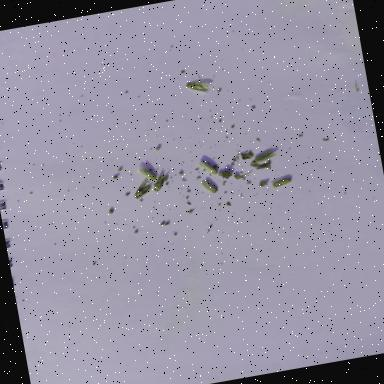pbw: (184, 74, 213, 98), (131, 180, 155, 202), (150, 171, 172, 193), (252, 148, 277, 166), (198, 157, 219, 178), (199, 176, 220, 196), (137, 163, 158, 183), (271, 176, 293, 190)
